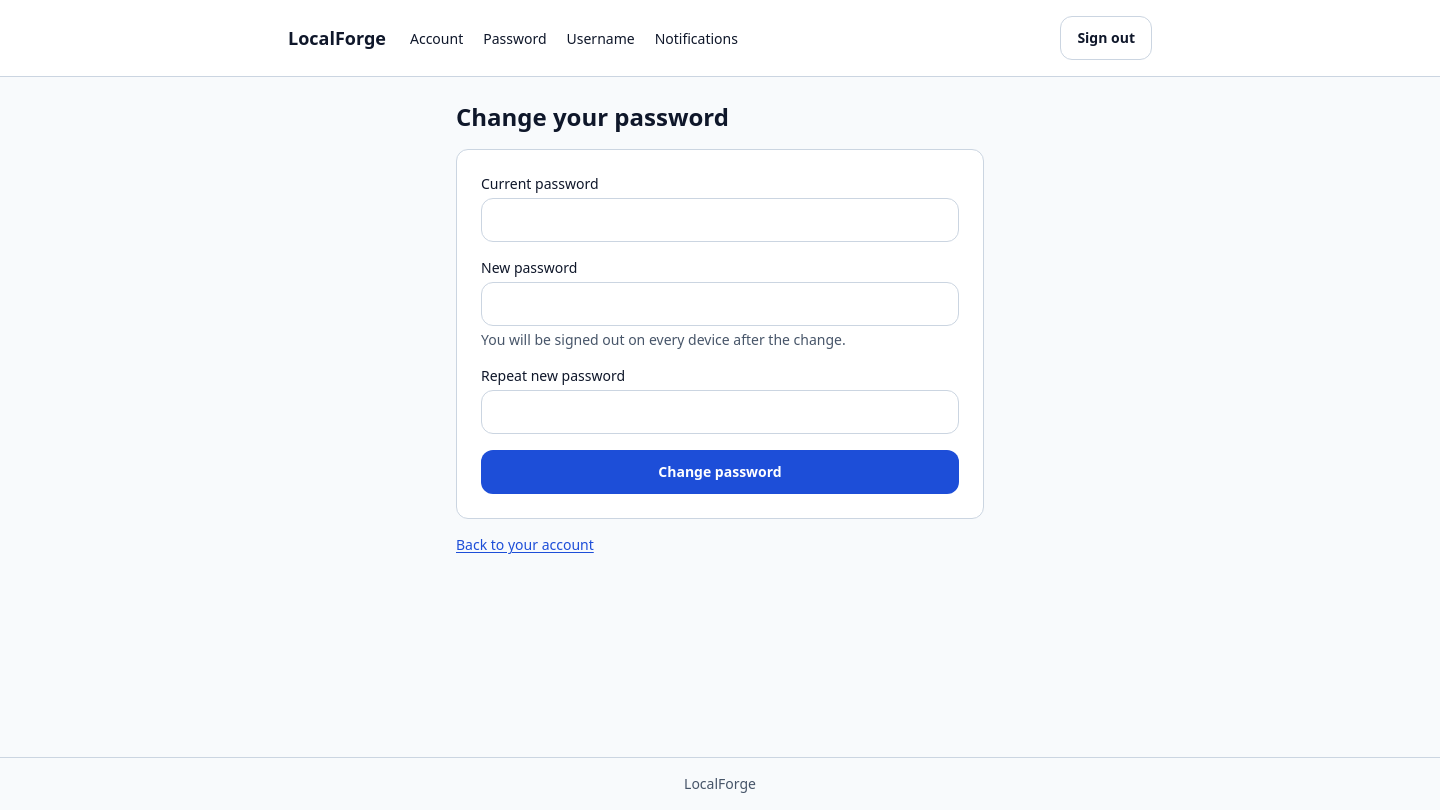
Test: ChangePasswordPage › keeps what was typed and says so when offline
This screenshot has width=1440, height=810.
Type "old password" into the password field labelled "Current password" at (720, 220), box [481, 198, 959, 242]
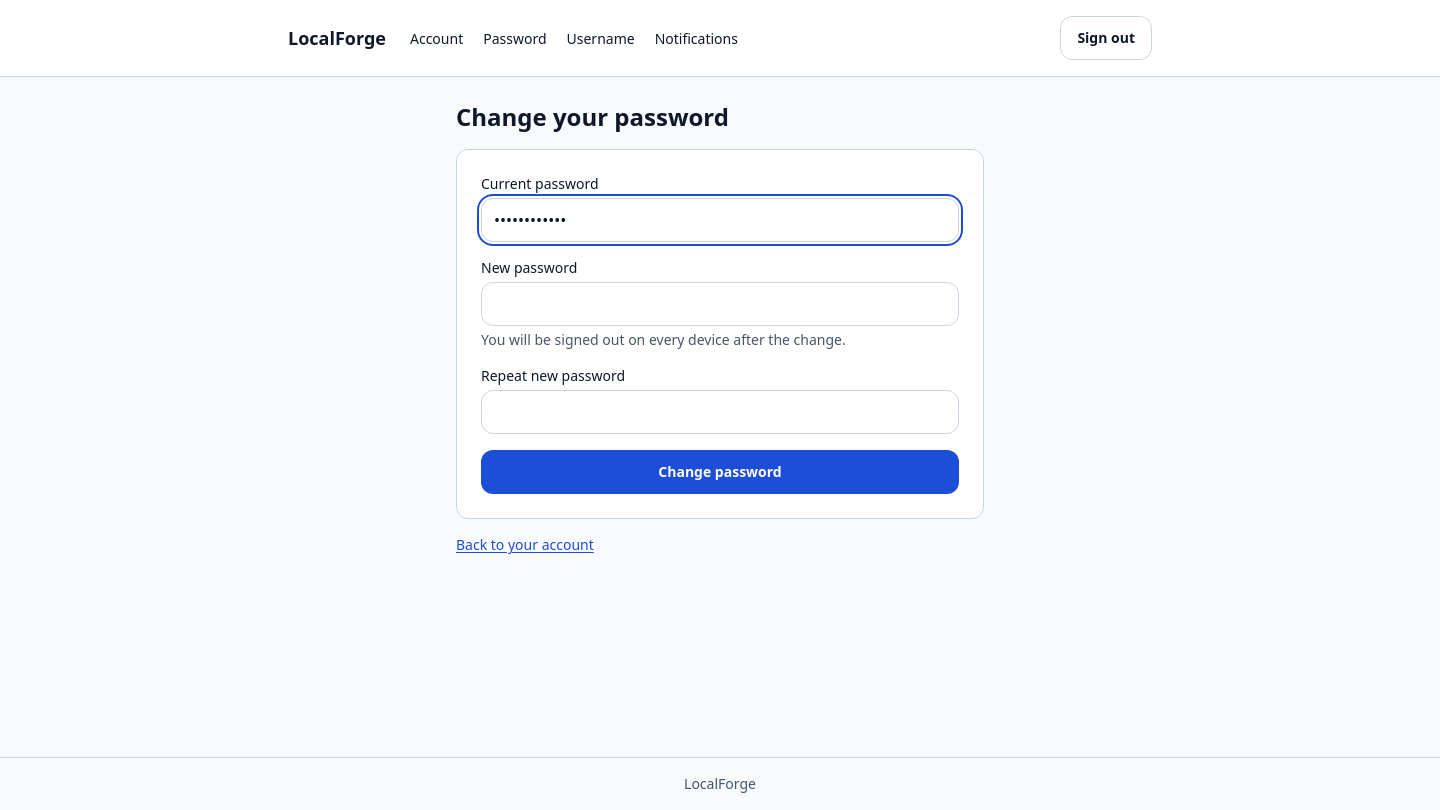
Type "fresh horse battery" into the password field labelled "New password" at (720, 304), box [481, 282, 959, 326]
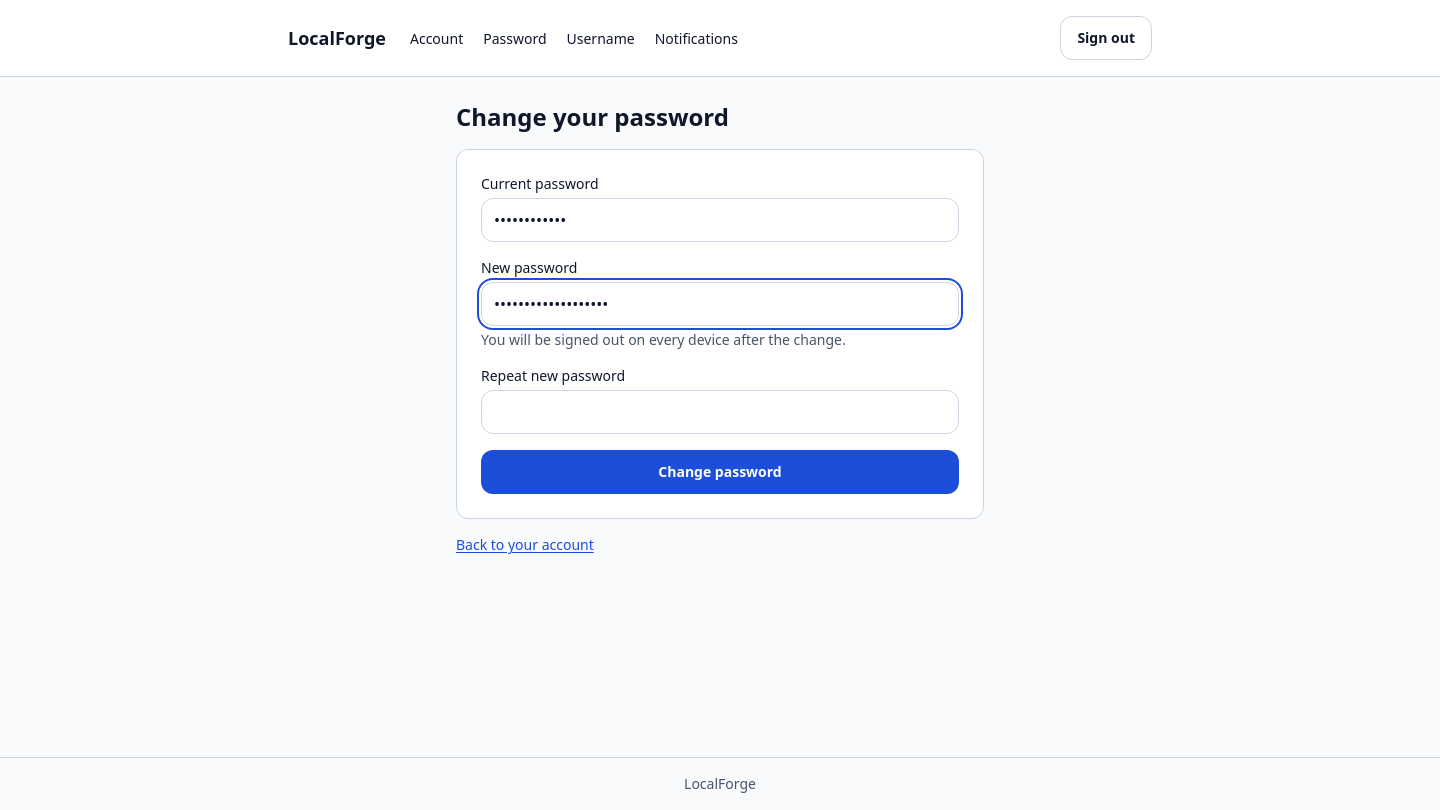
Type "fresh horse battery" into the password field labelled "Repeat new password" at (720, 412), box [481, 390, 959, 434]
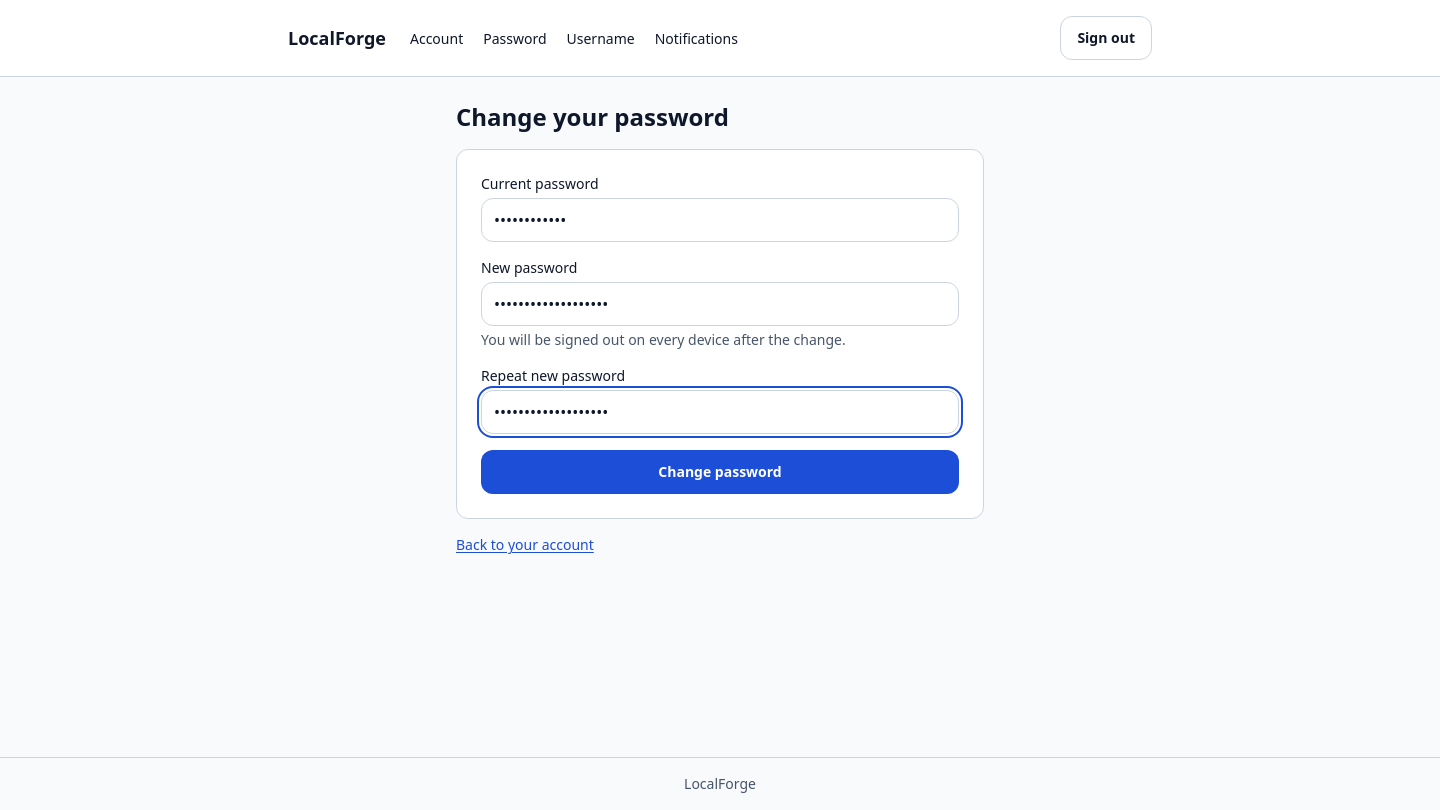
Click the button "Change password" at (720, 472), box [481, 450, 959, 494]
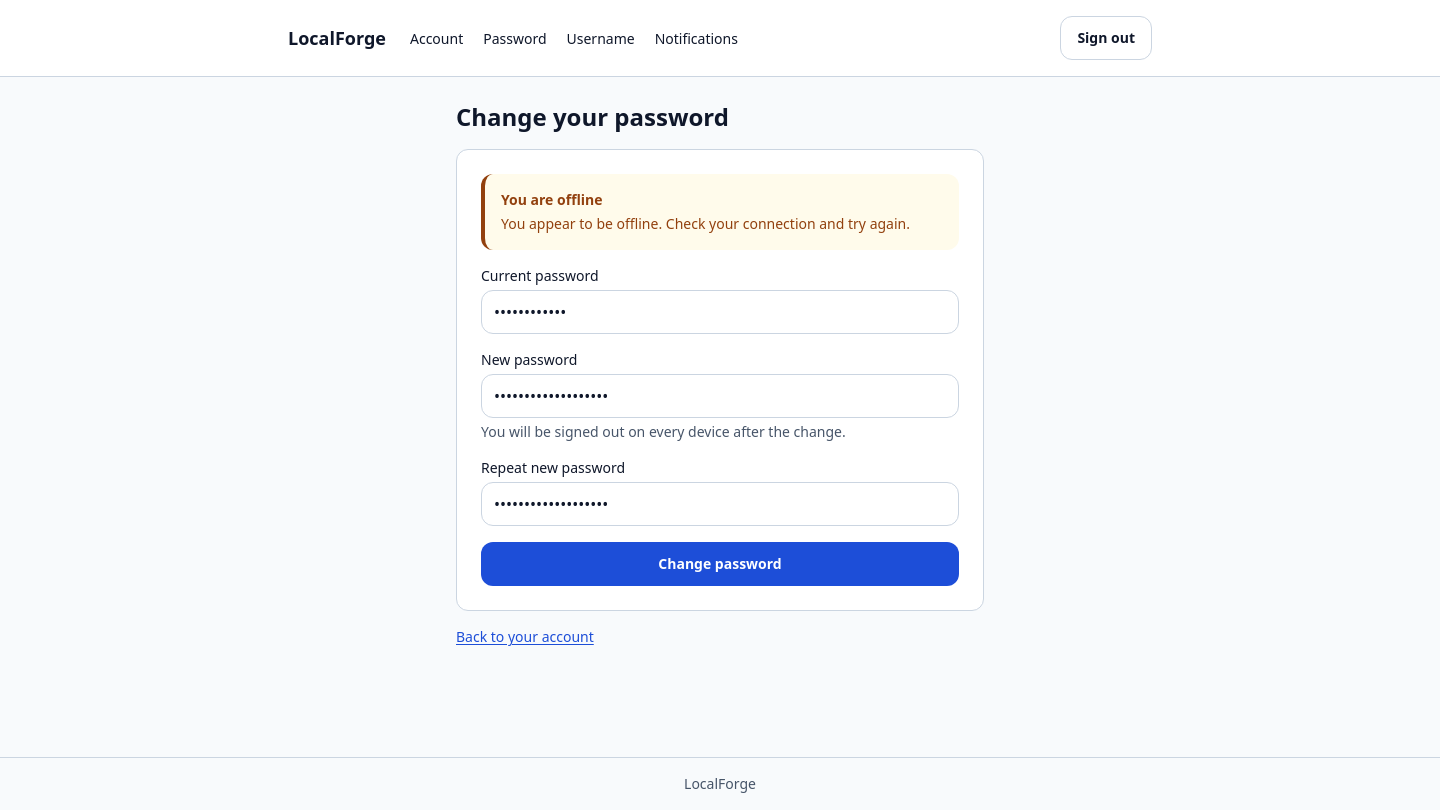
Result: the text "You are offline" is shown at [501, 190, 602, 209]
